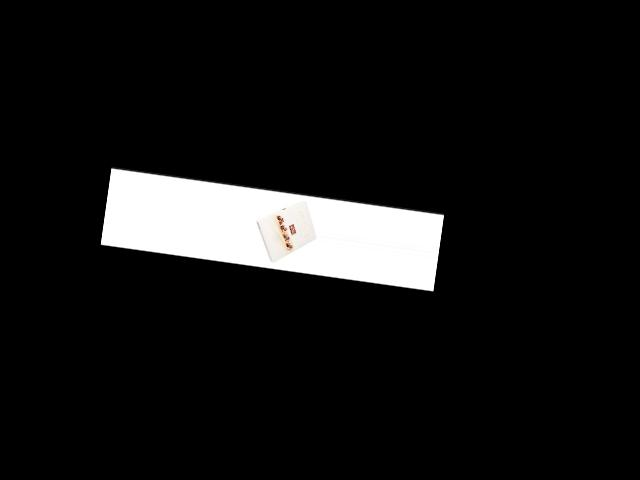chocolate: (248, 194, 320, 273)
